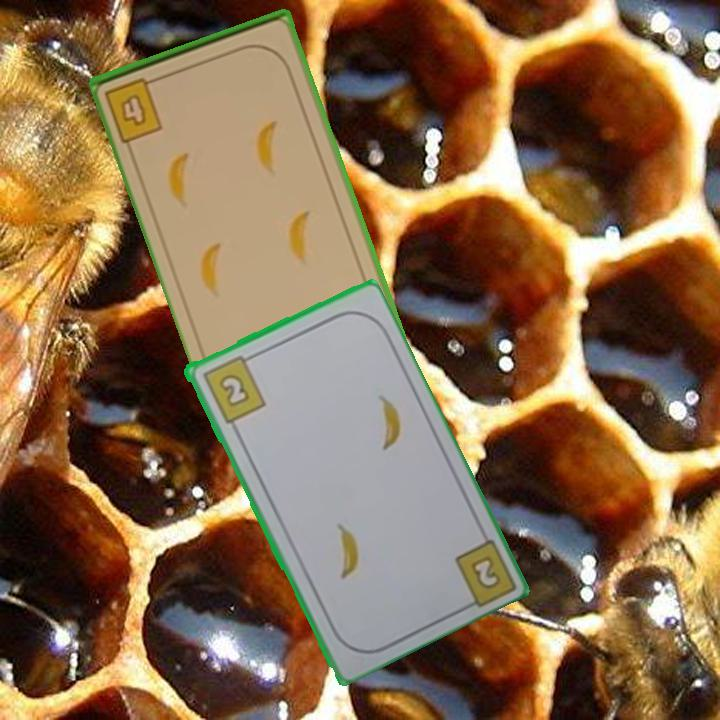2b: (198, 351, 268, 426), (466, 552, 504, 593)
4b: (101, 73, 166, 145)
